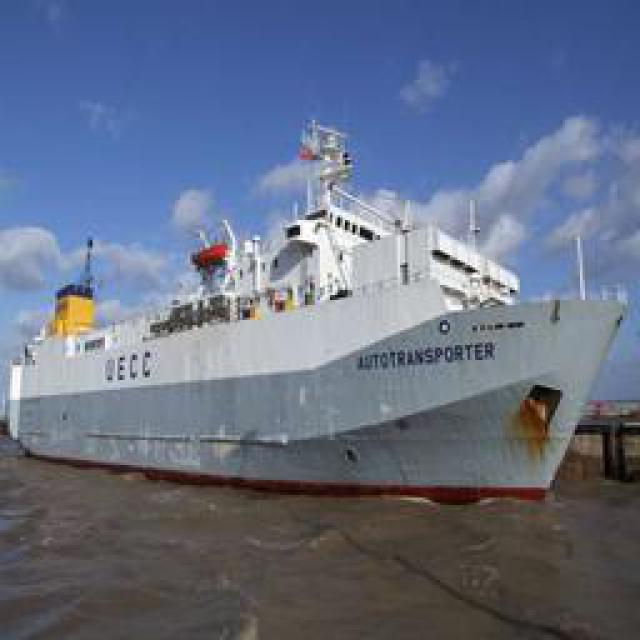Ship: (14, 126, 629, 496)
